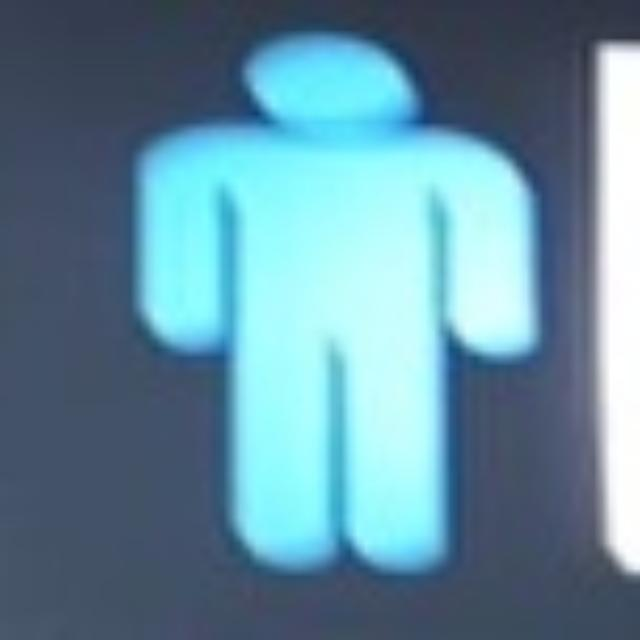mens_restroom: (135, 34, 531, 564)
